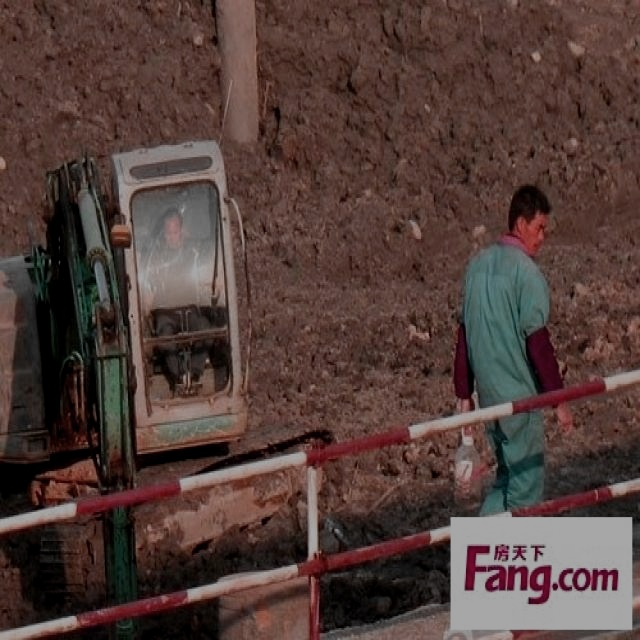Sin_Casco_Mascarrilla: (506, 184, 552, 253)
